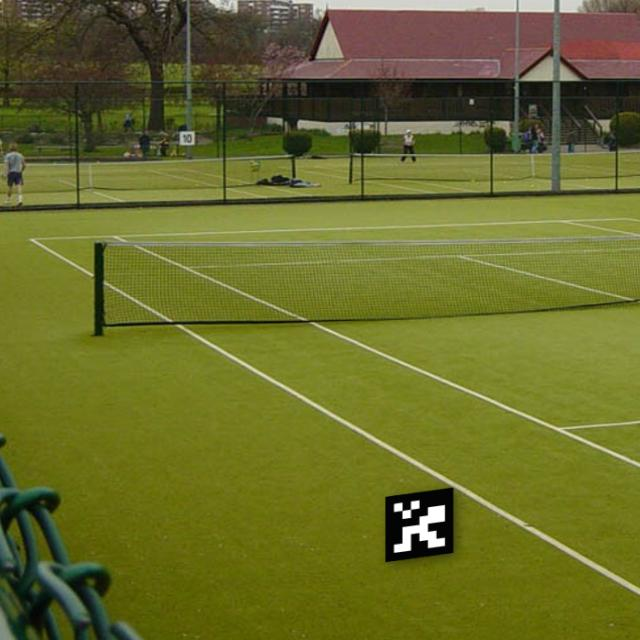marker: (374, 481, 470, 565)
